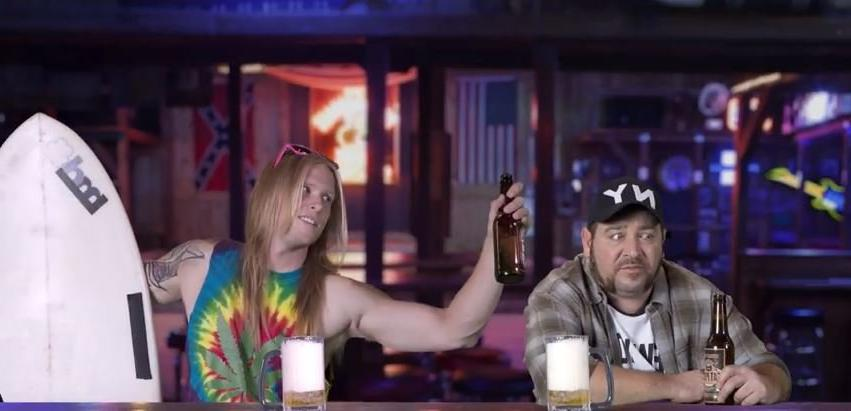Drunk: (595, 219, 662, 289), (283, 159, 331, 241)
